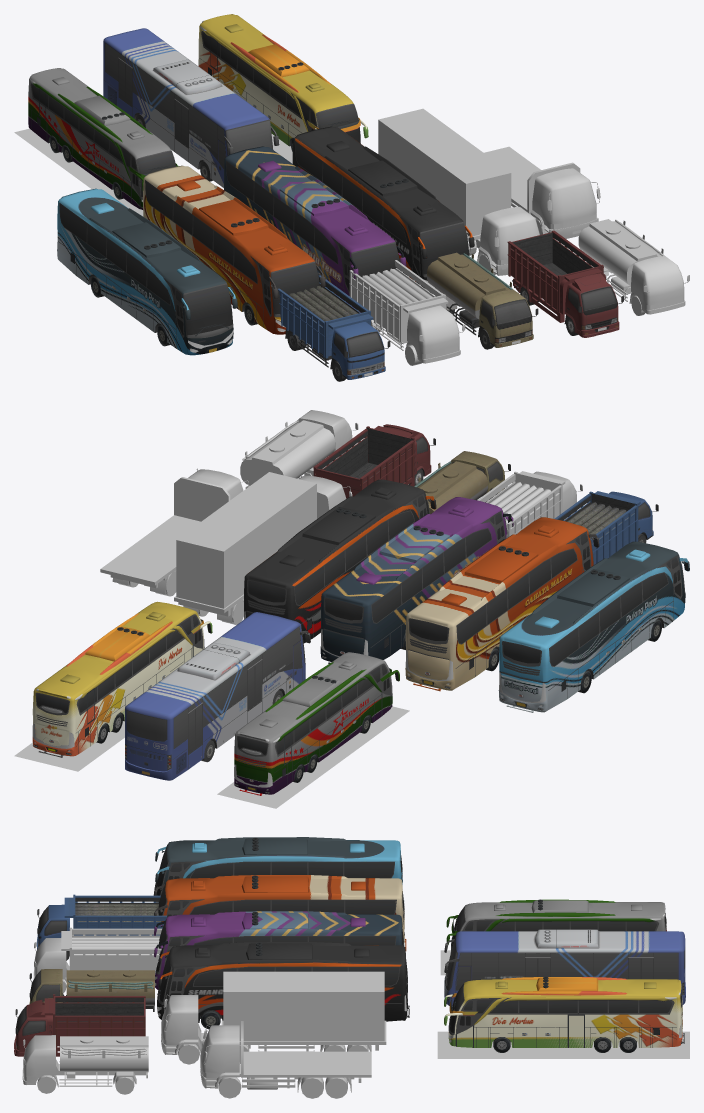
3 views of the same model, one above another, from view 1: azimuth 30°, elevation 25°; view 2: azimuth 150°, elevation 25°; view 3: azimuth 270°, elevation 25° (orthographic). The views are drawn at different scales.
Visible parts, largest first — view 1: Body.015, TransJakarta_Body, Body.013, Container, Body.011, HDTurnL.005, Body.017, Body.019, body.001, body.003, body.004, body.002 (+9 smaller); view 2: Body.015, TransJakarta_Body, Body.013, Body.011, Body.017, Container, HDTurnL.005, Body.019, Tronton, body.001, body, body.004 (+10 smaller); view 3: Container, Body.017, TransJakarta_Body, HDTurnL.005, Body.015, Body.013, Tronton, Body.011, Body.019, body, body.001, body.003 (+9 smaller).
Part boxes in pixels (x1,y1,x2,y2): Body.015: [57, 188, 237, 355]; TransJakarta_Body: [103, 28, 279, 187]; Body.013: [143, 165, 325, 334]; Container: [378, 108, 545, 275]; Body.011: [224, 146, 406, 312]; HDTurnL.005: [292, 126, 474, 292]; Body.017: [198, 14, 368, 145]; Body.019: [28, 68, 178, 209]; body.001: [507, 230, 623, 337]; body.003: [349, 260, 465, 363]; body.004: [277, 275, 390, 379]; body.002: [427, 252, 538, 347]; Body.015: [498, 541, 689, 712]; TransJakarta_Body: [125, 612, 310, 780]; Body.013: [405, 517, 599, 691]; Body.011: [320, 497, 513, 663]; Body.017: [32, 601, 212, 757]; Container: [174, 472, 352, 624]; HDTurnL.005: [244, 479, 436, 643]; Body.019: [234, 652, 399, 795]; Tronton: [100, 468, 249, 596]; body.001: [313, 424, 435, 498]; body: [240, 410, 358, 488]; body.004: [554, 491, 658, 564]; Container: [161, 971, 386, 1064]; Body.017: [444, 977, 684, 1047]; TransJakarta_Body: [444, 929, 685, 1006]; HDTurnL.005: [157, 942, 409, 1022]; Body.015: [155, 837, 404, 906]; Body.013: [153, 875, 406, 950]; Tronton: [200, 1021, 371, 1098]; Body.011: [154, 911, 403, 989]; Body.019: [446, 899, 666, 951]; body: [22, 1035, 148, 1087]; body.001: [14, 994, 145, 1056]; body.003: [33, 927, 161, 982].
Size of the model in its own units: 700 by 120 by 1014.
